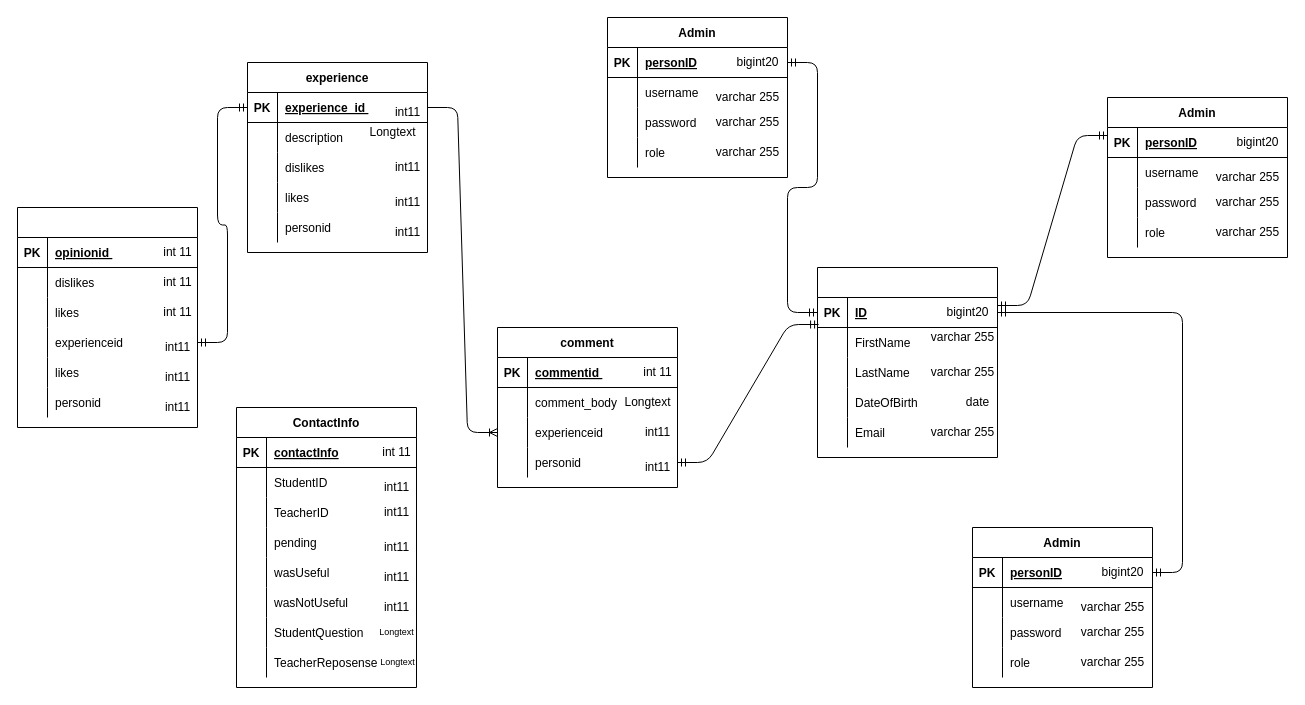
The diagram is 1305 pixels wide and 705 high, and some of its shapes have lost their labels. Each missing label, with the box of its shape:
experience_opinion: (16, 206, 198, 428)
Person: (816, 266, 998, 458)
